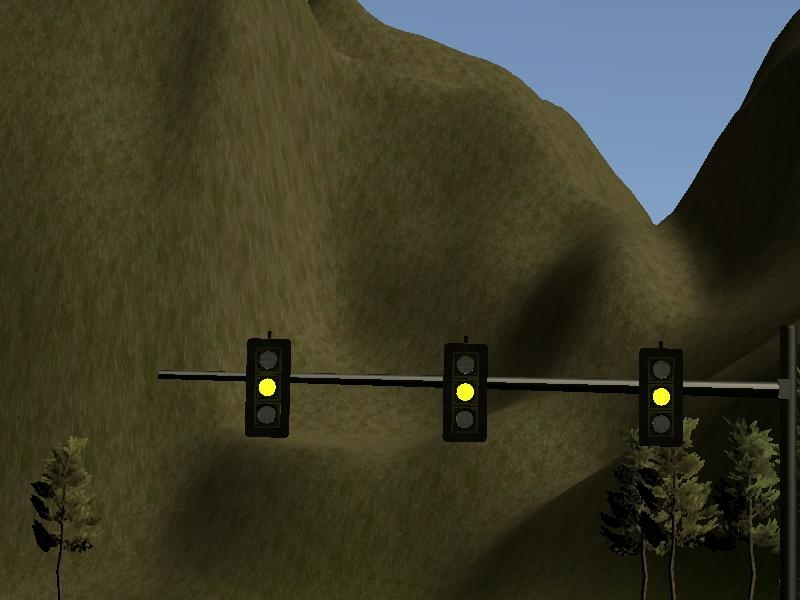yellow: (434, 328, 494, 449), (630, 338, 690, 452), (239, 326, 297, 443)
